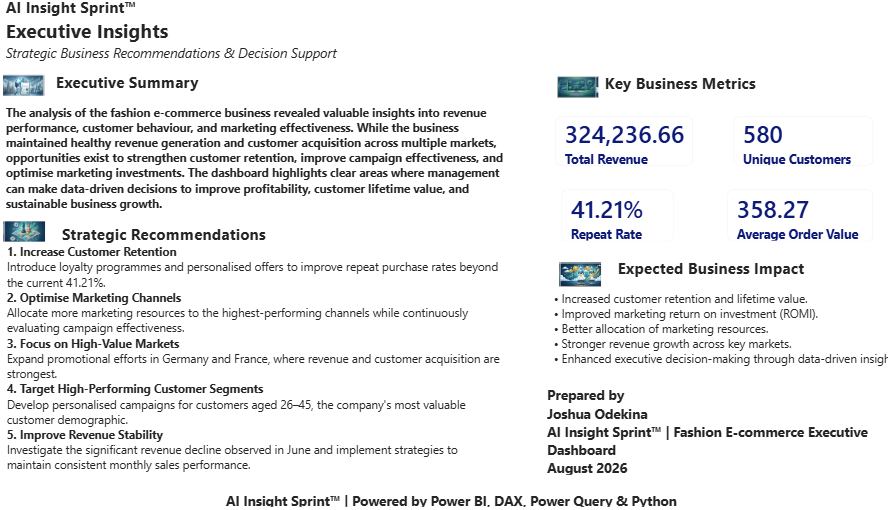

The page's visual inventory and layout, read from the dashboard file:
{"tool":"powerbi","page":{"name":"Executive Insights","canvas":[1280,720],"ordinal":4},"visuals":[{"type":"textbox","box":[21.4,103.7,697.1,209],"z":0},{"type":"textbox","box":[21.4,0,472.9,103.7],"z":1000},{"type":"textbox","box":[777,104.6,375,48.7],"z":2000},{"type":"textbox","box":[21.6,313.7,697.7,369.6],"z":3000},{"type":"textbox","box":[776.4,360,503.4,163.2],"z":4000},{"type":"textbox","box":[767.3,536.9,491.2,132.7],"z":5000},{"type":"textbox","box":[21.4,683.4,1246.3,30.5],"z":6000},{"type":"cardVisual","fields":{"Data":["Measures (2).Total Revenue"]},"box":[767.3,152.5,224.2,102.2],"z":7000},{"type":"cardVisual","fields":{"Data":["Measures (2).Unique Customers"]},"box":[1012.9,152.5,227.3,102.2],"z":8000},{"type":"cardVisual","fields":{"Data":["Measures (2).Repeat Customer Rate"]},"box":[775.2,254.2,189.2,106.8],"z":9000},{"type":"cardVisual","fields":{"Data":["Measures (2).Average Order Value"]},"box":[1004.2,254.2,235.6,106.3],"z":10000},{"type":"image","box":[21.6,108,57,39],"z":11000},{"type":"image","box":[786,110,57,39],"z":12000},{"type":"image","box":[789.6,367.8,57.7,39.7],"z":13000},{"type":"image","box":[21.6,308.3,57.7,39.7],"z":14000}]}

Visuals, with their boxes in screenshot pixels (x1, y1, x2, y2), scaled from the page's 1280x720 canvas onto the 888x510 screenshot:
textbox: locate(15, 73, 498, 221)
textbox: locate(15, 0, 343, 73)
textbox: locate(539, 74, 799, 109)
textbox: locate(15, 222, 499, 484)
textbox: locate(539, 255, 887, 371)
textbox: locate(532, 380, 873, 474)
textbox: locate(15, 484, 879, 506)
cardVisual - Measures (2).Total Revenue: locate(532, 108, 688, 180)
cardVisual - Measures (2).Unique Customers: locate(703, 108, 860, 180)
cardVisual - Measures (2).Repeat Customer Rate: locate(538, 180, 669, 256)
cardVisual - Measures (2).Average Order Value: locate(697, 180, 860, 255)
image: locate(15, 76, 55, 104)
image: locate(545, 78, 585, 106)
image: locate(548, 261, 588, 289)
image: locate(15, 218, 55, 246)
